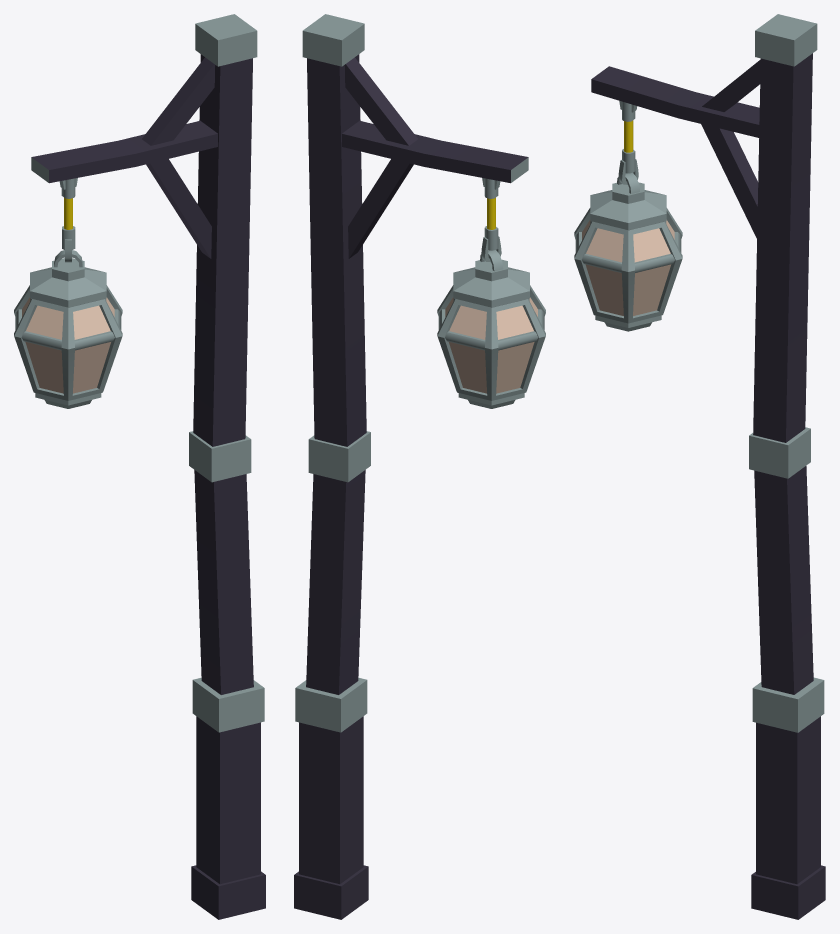
File: lamppost_03.fbx
3 renders of one model, left to right at view 1: azimuth 30°, elevation 25°; view 2: azimuth 150°, elevation 25°; view 3: azimuth 330°, elevation 25°, orthographic.
Parts seen in each view (by area): view 1: lamppost_03; view 2: lamppost_03; view 3: lamppost_03.
Boxes of the visible parts, left/top/right/bottom form: lamppost_03: left=14, top=14, right=265, bottom=919; lamppost_03: left=294, top=14, right=545, bottom=919; lamppost_03: left=574, top=14, right=825, bottom=919.
Size of the model in its own units: 113 by 398 by 44.59.
